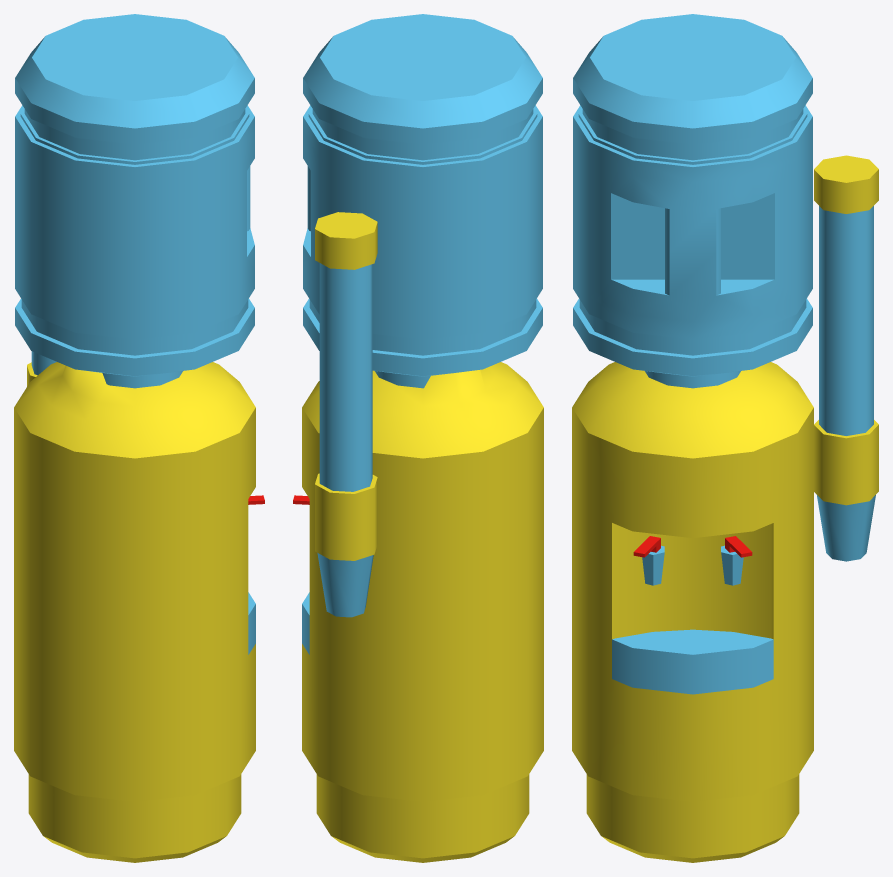
Rendered from SM_OfficeWatertank.fbx.
3 renders of one model, left to right at view 1: azimuth 30°, elevation 25°; view 2: azimuth 150°, elevation 25°; view 3: azimuth 270°, elevation 25°, orthographic.
Visible parts, largest first — view 1: SM_OfficeWatertank; view 2: SM_OfficeWatertank; view 3: SM_OfficeWatertank.
Part boxes in pixels (box(x1,y1,x2,y2)): SM_OfficeWatertank: box(14, 14, 264, 862); SM_OfficeWatertank: box(293, 14, 543, 862); SM_OfficeWatertank: box(572, 14, 878, 862).
Size of the model in its own units: 39.61 by 138 by 50.27.
